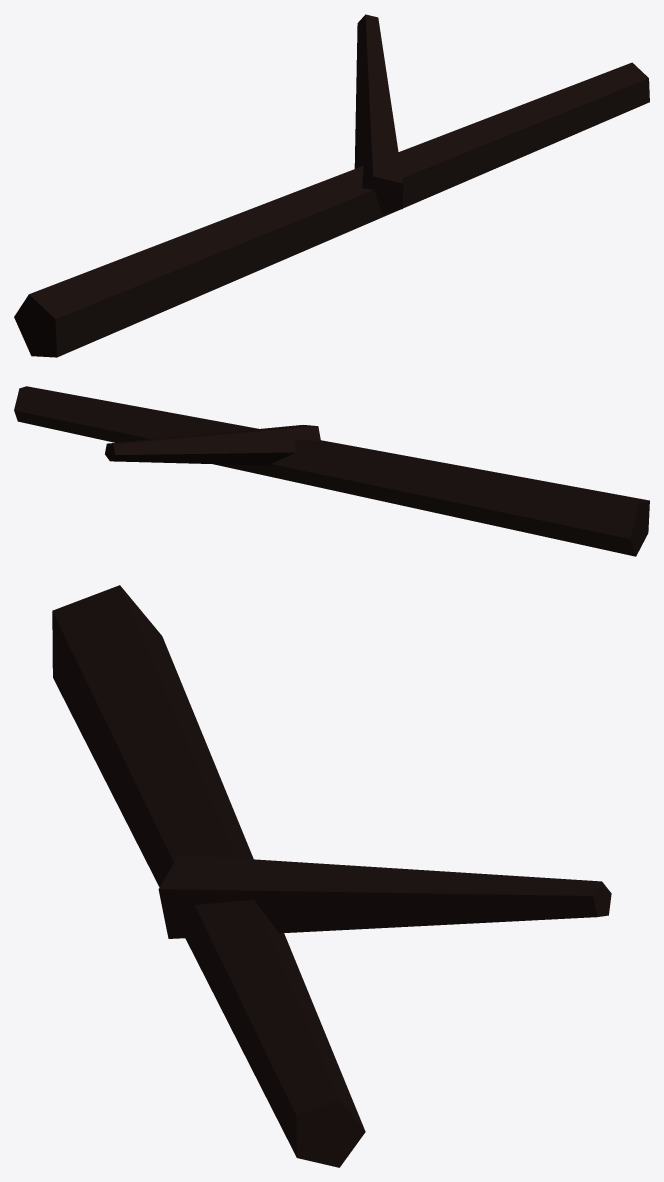
Rendered from Wood_Branch_01.fbx.
3 views of the same model, one above another, from view 1: azimuth 30°, elevation 25°; view 2: azimuth 150°, elevation 25°; view 3: azimuth 270°, elevation 25° (orthographic). The views are drawn at different scales.
Parts seen in each view (by area): view 1: Wood_Branch_01_Mesh; view 2: Wood_Branch_01_Mesh; view 3: Wood_Branch_01_Mesh.
Boxes of the visible parts, <box> form: Wood_Branch_01_Mesh: <box>14,14,649,357</box>; Wood_Branch_01_Mesh: <box>14,386,649,556</box>; Wood_Branch_01_Mesh: <box>52,585,611,1167</box>.
Bounding box in the file's own units: 0.7496 × 0.1285 × 0.318.
Materials: 1 (1 with a texture image).
